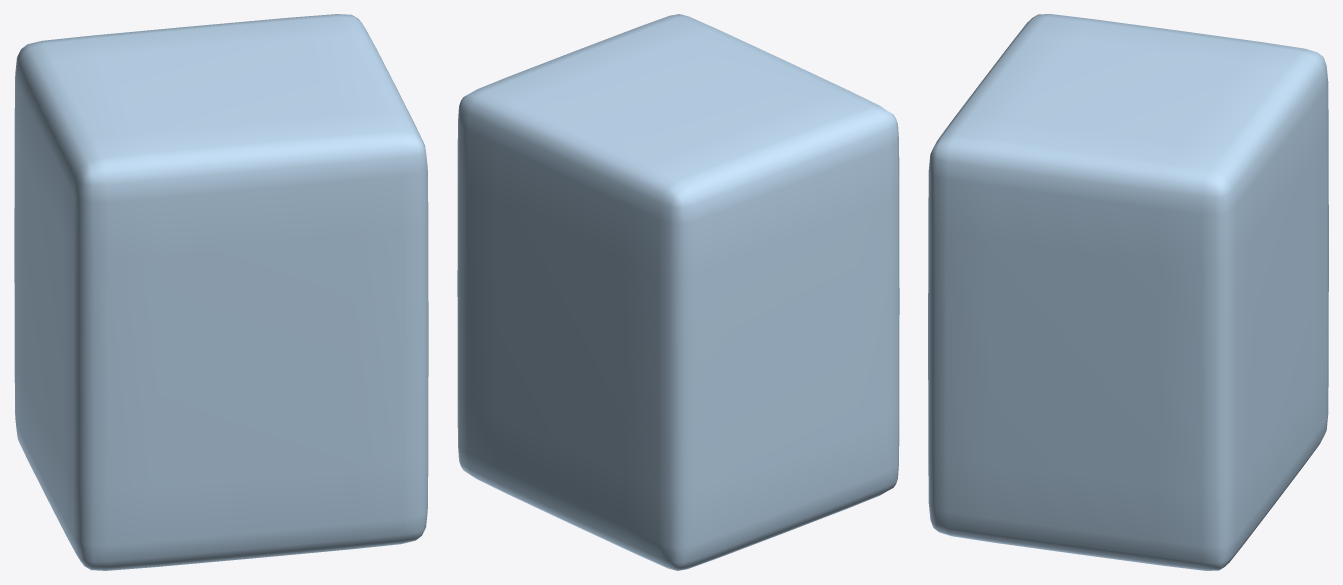
The model's file is PROP_ParkBin_v1.glb.
3 views of the same model, side by side, from view 1: azimuth 30°, elevation 25°; view 2: azimuth 150°, elevation 25°; view 3: azimuth 270°, elevation 25° (orthographic). The views are drawn at different scales.
Parts seen in each view (by area): view 1: PROP_ParkBin_v1; view 2: PROP_ParkBin_v1; view 3: PROP_ParkBin_v1.
Part boxes in pixels (box(x1,y1,x2,y2)): PROP_ParkBin_v1: box(14, 14, 428, 570); PROP_ParkBin_v1: box(457, 14, 899, 570); PROP_ParkBin_v1: box(928, 14, 1328, 570).
Size of the model in its own units: 0.7543 by 0.7937 by 0.7179.
